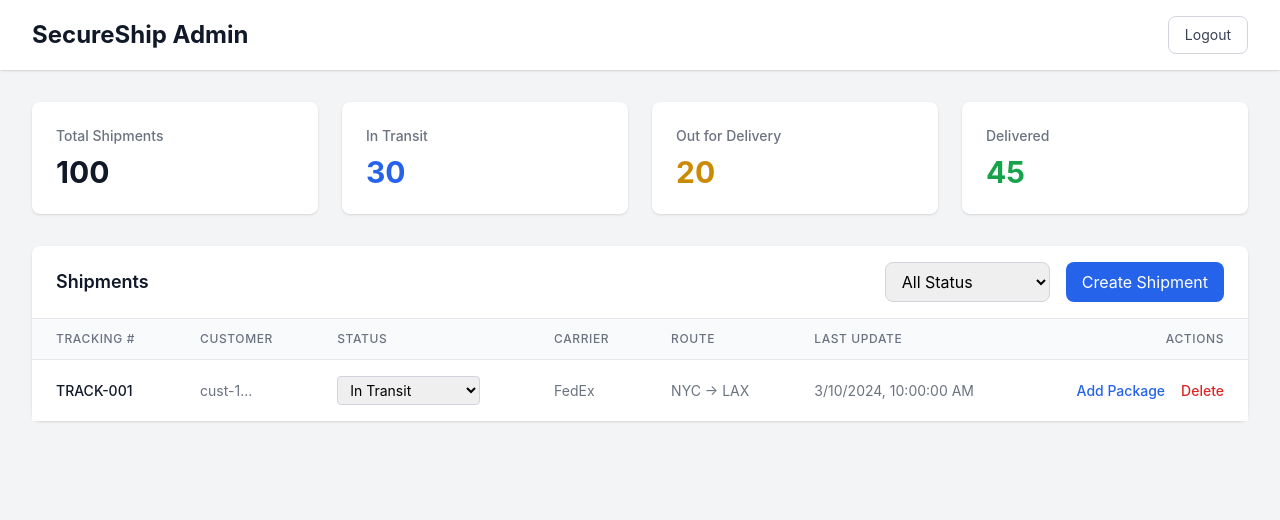
Test: AdminDashboard › should expand/collapse shipment rows
Expected: the text "TRACK-001" is shown, [32,360,176,421]
Expected: the text "Test Package" is not shown
Note: Click row to expand
What coordinates should you click on to do the following:
click the text "TRACK-001"
I would click on:
 (94, 390)
Its box is [32,360,1248,421].
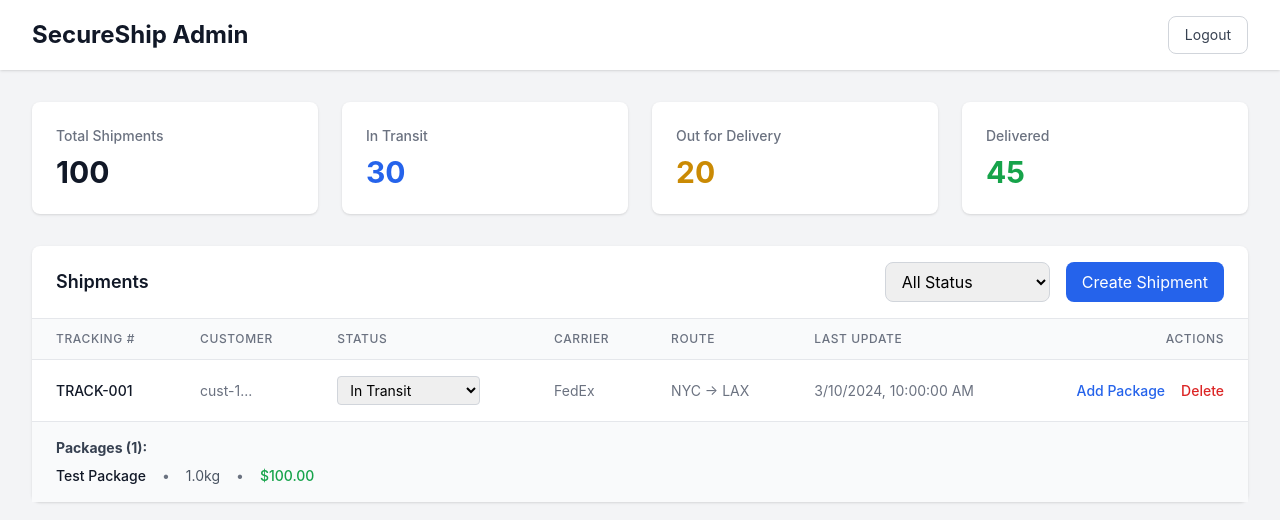
Expected: the text "Test Package" is shown, [56,466,146,486]
